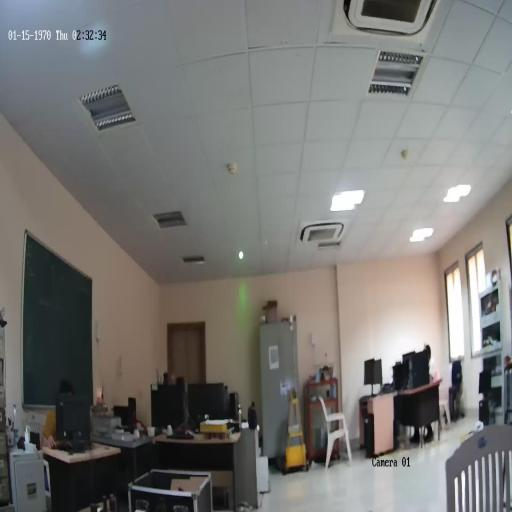laser: (238, 246, 244, 260)
